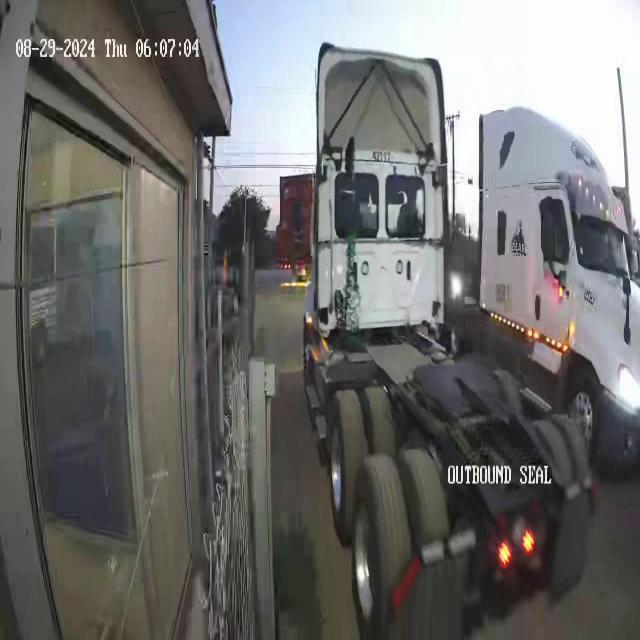TRUCK_IN: (478, 108, 633, 472)
TRUCK_OUT: (299, 40, 571, 638)
